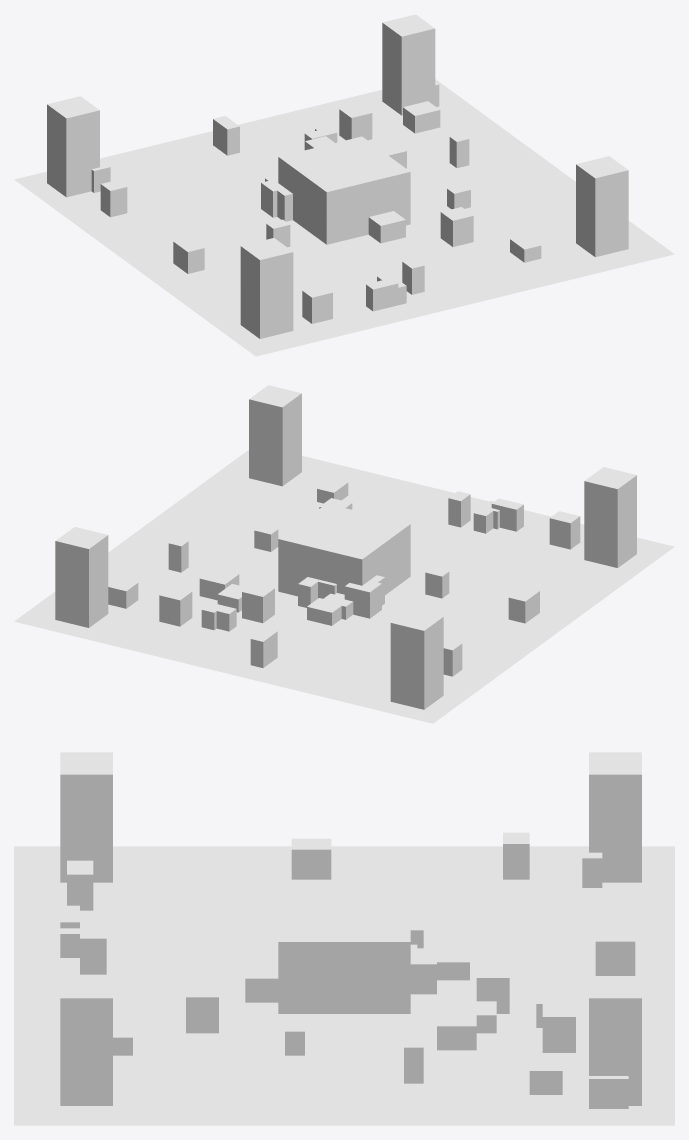
The model's file is stage00.gltf.
3 renders of one model, top to bottom at view 1: azimuth 30°, elevation 25°; view 2: azimuth 150°, elevation 25°; view 3: azimuth 270°, elevation 25°, orthographic. The views are drawn at different scales.
Parts seen in each view (by area): view 1: Cover_29; view 2: Cover_29; view 3: Cover_29.
Part boxes in pixels (x1,y1,x2,y2): Cover_29: (14,14,674,356); Cover_29: (14,385,674,723); Cover_29: (14,752,674,1125).
Size of the model in its own units: 100 by 18 by 100.
